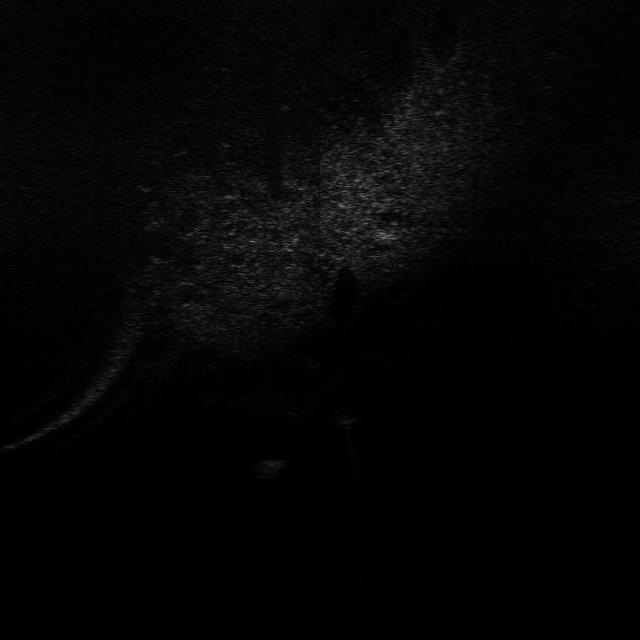cube: (328, 400, 366, 431), (362, 426, 366, 428)
